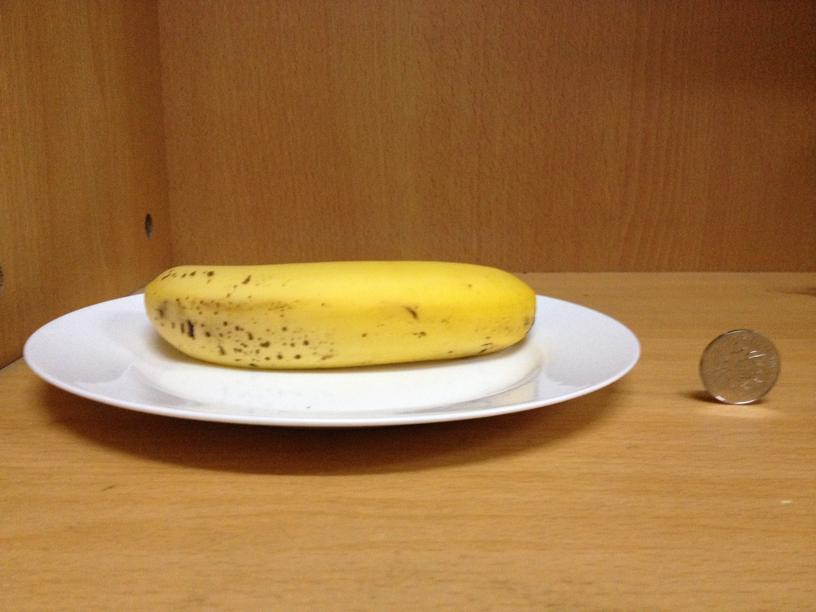banana: (143, 257, 536, 368)
coin: (694, 326, 754, 402)
